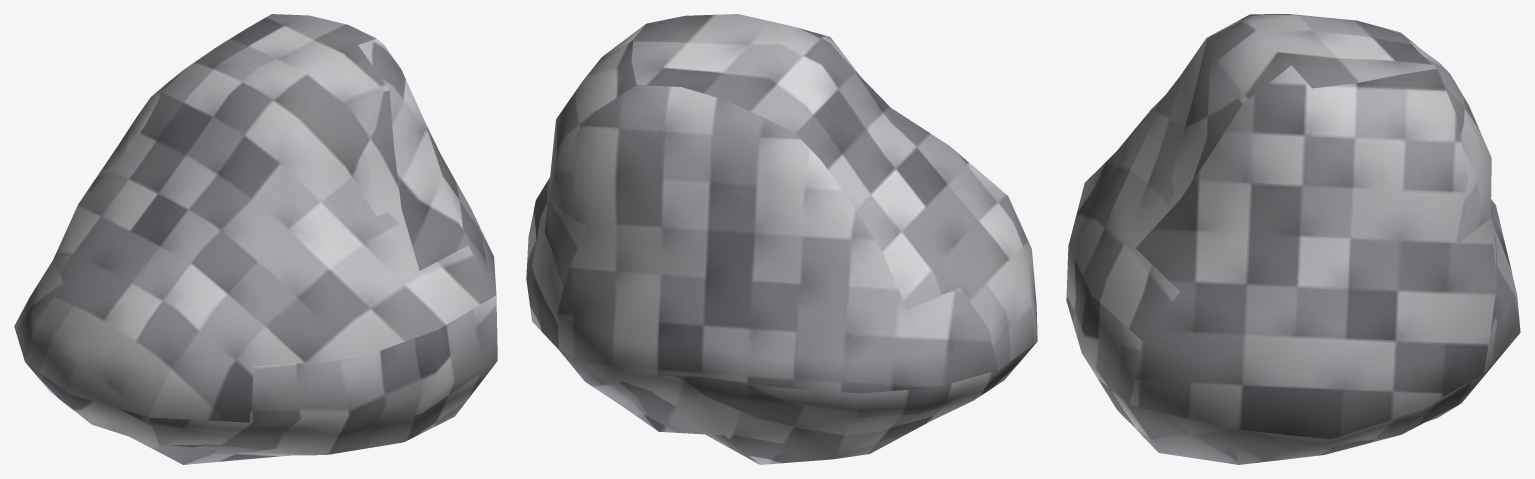
Rendered from Rock 01.fbx.
The picture shows the model from 3 angles, left to right: view 1: azimuth 30°, elevation 25°; view 2: azimuth 150°, elevation 25°; view 3: azimuth 270°, elevation 25°; orthographic projection. The views are drawn at different scales.
Parts seen in each view (by area): view 1: Rock.001; view 2: Rock.001; view 3: Rock.001.
Boxes of the visible parts, x1,y1,x2,y2 form: Rock.001: [14, 14, 497, 464]; Rock.001: [526, 14, 1037, 464]; Rock.001: [1066, 14, 1520, 464].
Bounding box in the file's own units: 0.8719 × 0.8552 × 1.08.
